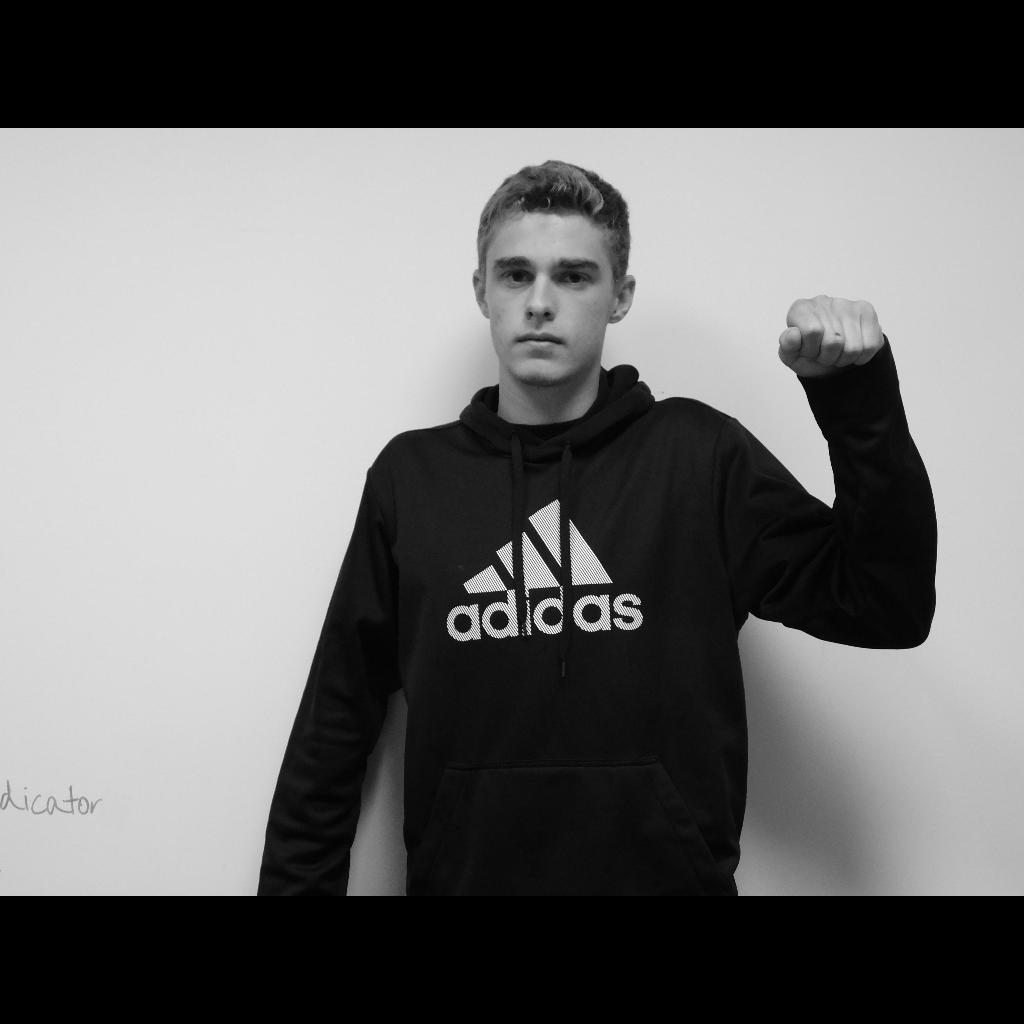yes: (779, 295, 885, 375)
